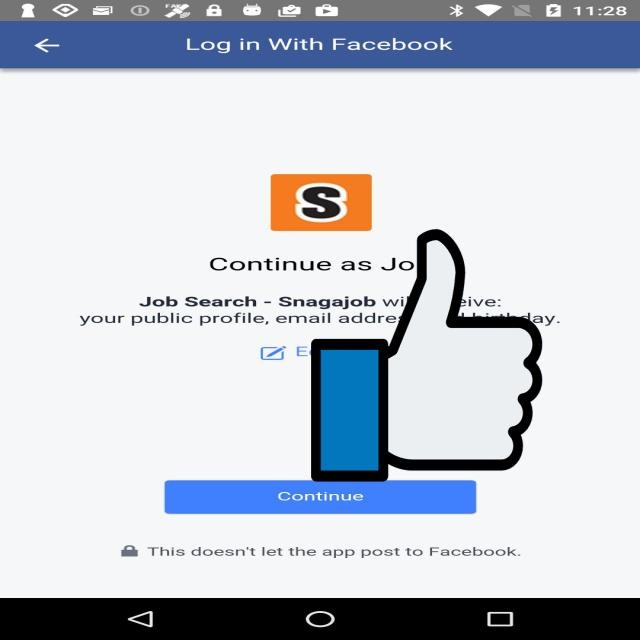privacy zuckering: (311, 224, 542, 487)
